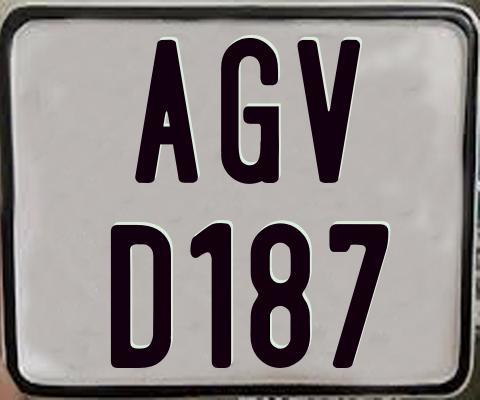1: (189, 220, 236, 365)
7: (329, 221, 390, 368)
8: (250, 220, 314, 371)
A: (133, 40, 197, 188)
D: (108, 225, 172, 370)
G: (221, 38, 279, 188)
V: (297, 37, 365, 186)
